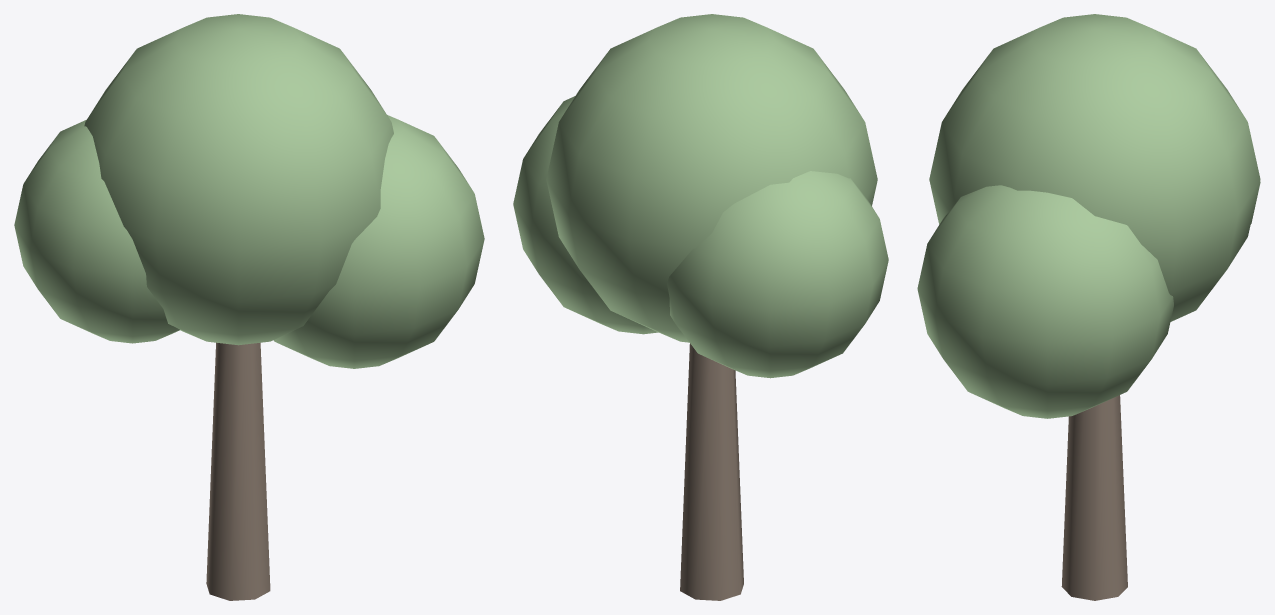
File: tree.glb
3 renders of one model, left to right at view 1: azimuth 30°, elevation 25°; view 2: azimuth 150°, elevation 25°; view 3: azimuth 270°, elevation 25°, orthographic.
Visible parts, largest first — view 1: leaves, trunk; view 2: leaves, trunk; view 3: leaves, trunk.
Boxes of the visible parts, x1,y1,x2,y2 form: leaves: [14, 14, 484, 368]; trunk: [206, 342, 270, 600]; leaves: [513, 14, 888, 378]; trunk: [680, 343, 743, 600]; leaves: [917, 14, 1260, 418]; trunk: [1061, 395, 1127, 600].
Size of the model in its own units: 1.9 by 2.6 by 1.45.
